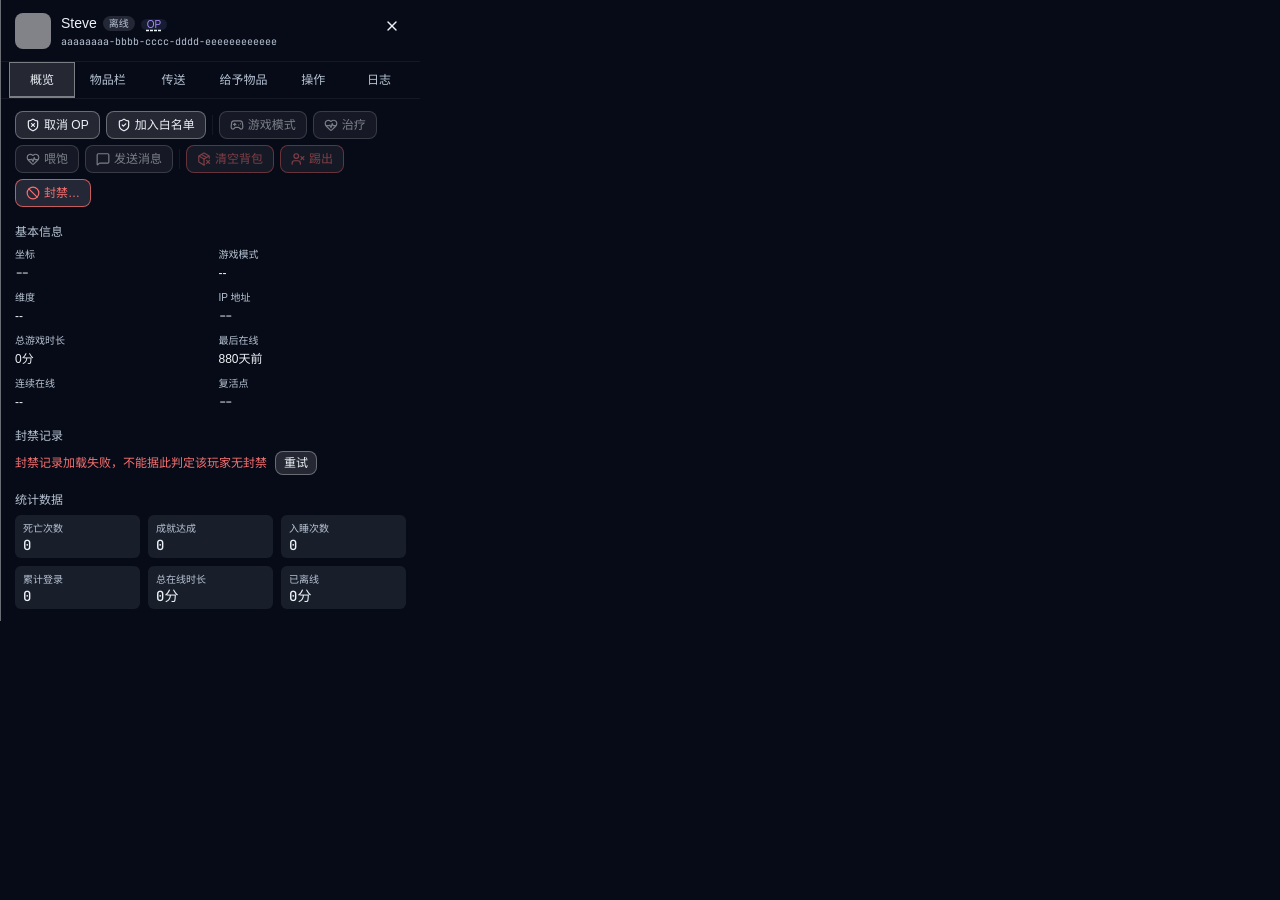
Test: PlayerDetailPanel OP 徽章：满员免排队 › 普通 OP 亦有解释入口（不只是免排队那一档）
Click the button with aria-label "OP 说明" at (154, 23), box [141, 12, 167, 34]
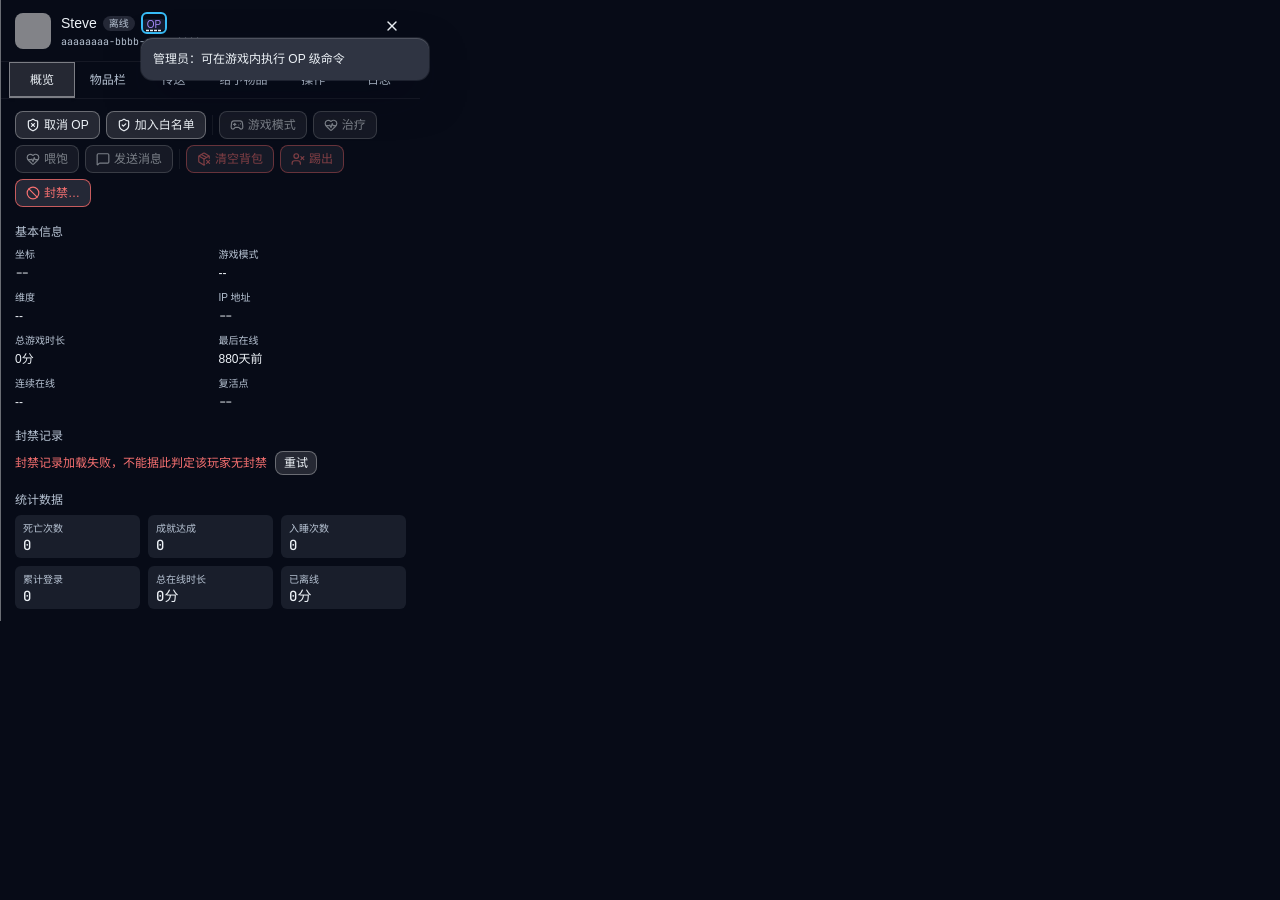
expect the dialog named "OP 说明" reads "管理员：可在游戏内执行 OP 级命令": met, box [153, 52, 345, 66]
